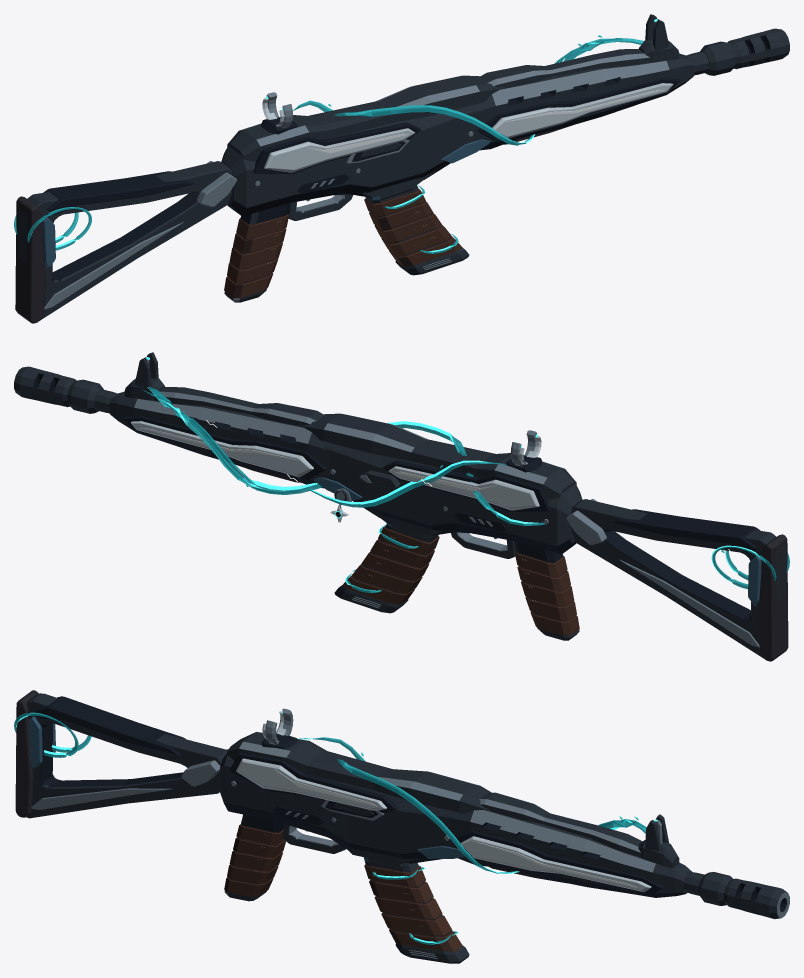
Rendered from Vandal_StormShadow_v04.glb.
3 views of the same model, one above another, from view 1: azimuth 30°, elevation 25°; view 2: azimuth 150°, elevation 25°; view 3: azimuth 330°, elevation 25° (orthographic).
Visible parts, largest first — view 1: Receiver_IndigoForging.001, Stock_ContinuousTriangularFrame.001, UpperSpine_ProwBrow.001, Shroud_OctagonalForging.001, Stock_ButtPad.001, Stock_CheekSaddle.001, Shroud_DorsalBlade.001, Fore_SilverPlate_Far.001, Rear_SilverPlate_Far.001, Muzzle_FourVentCage.001, Fore_DovetailBed_Far.001, Rear_DovetailBed_Far.001 (+19 smaller); view 2: Receiver_IndigoForging.001, Stock_ContinuousTriangularFrame.001, UpperSpine_ProwBrow.001, Shroud_OctagonalForging.001, Stock_ButtPad.001, Stock_CheekSaddle.001, Shroud_DorsalBlade.001, Fore_SilverPlate_Player.001, Rear_SilverPlate_Player.001, Muzzle_FourVentCage.001, Fore_DovetailBed_Player.001, Rear_DovetailBed_Player.001 (+21 smaller); view 3: Receiver_IndigoForging.001, Stock_ContinuousTriangularFrame.001, Shroud_OctagonalForging.001, UpperSpine_ProwBrow.001, Stock_CheekSaddle.001, Shroud_DorsalBlade.001, Fore_SilverPlate_Far.001, Rear_SilverPlate_Far.001, Muzzle_FourVentCage.001, Stock_ButtPad.001, Fore_DovetailBed_Far.001, Rear_DovetailBed_Far.001 (+20 smaller).
Part boxes in pixels (bbox=[...]): Receiver_IndigoForging.001: bbox=[221, 104, 480, 216]; Stock_ContinuousTriangularFrame.001: bbox=[18, 161, 232, 320]; UpperSpine_ProwBrow.001: bbox=[227, 75, 505, 161]; Shroud_OctagonalForging.001: bbox=[474, 53, 694, 150]; Stock_ButtPad.001: bbox=[15, 196, 45, 323]; Stock_CheekSaddle.001: bbox=[43, 171, 193, 214]; Shroud_DorsalBlade.001: bbox=[479, 49, 650, 87]; Fore_SilverPlate_Far.001: bbox=[492, 83, 673, 138]; Rear_SilverPlate_Far.001: bbox=[264, 128, 414, 172]; Muzzle_FourVentCage.001: bbox=[727, 28, 789, 69]; Fore_DovetailBed_Far.001: bbox=[477, 78, 680, 142]; Rear_DovetailBed_Far.001: bbox=[253, 122, 420, 173]; Receiver_IndigoForging.001: bbox=[323, 441, 582, 554]; Stock_ContinuousTriangularFrame.001: bbox=[571, 499, 785, 658]; UpperSpine_ProwBrow.001: bbox=[297, 413, 576, 499]; Shroud_OctagonalForging.001: bbox=[109, 391, 329, 488]; Stock_ButtPad.001: bbox=[758, 534, 788, 661]; Stock_CheekSaddle.001: bbox=[609, 509, 760, 552]; Shroud_DorsalBlade.001: bbox=[153, 387, 324, 425]; Fore_SilverPlate_Player.001: bbox=[130, 421, 313, 477]; Rear_SilverPlate_Player.001: bbox=[388, 466, 539, 510]; Muzzle_FourVentCage.001: bbox=[14, 366, 76, 407]; Fore_DovetailBed_Player.001: bbox=[123, 416, 326, 480]; Rear_DovetailBed_Player.001: bbox=[383, 460, 550, 511]; Receiver_IndigoForging.001: bbox=[220, 753, 458, 863]; Stock_ContinuousTriangularFrame.001: bbox=[26, 693, 227, 818]; Shroud_OctagonalForging.001: bbox=[451, 810, 691, 897]; UpperSpine_ProwBrow.001: bbox=[227, 732, 491, 813]; Stock_CheekSaddle.001: bbox=[34, 696, 185, 755]; Shroud_DorsalBlade.001: bbox=[479, 792, 642, 857]; Fore_SilverPlate_Far.001: bbox=[461, 836, 651, 891]; Rear_SilverPlate_Far.001: bbox=[236, 758, 386, 810]; Muzzle_FourVentCage.001: bbox=[723, 878, 789, 919]; Stock_ButtPad.001: bbox=[15, 690, 38, 817]; Fore_DovetailBed_Far.001: bbox=[456, 831, 663, 894]; Rear_DovetailBed_Far.001: bbox=[229, 752, 397, 813].
Bounding box in the file's own units: 3.9 × 1 × 0.369.
